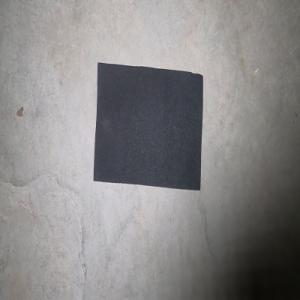PaintChip: (93, 62, 203, 190)
